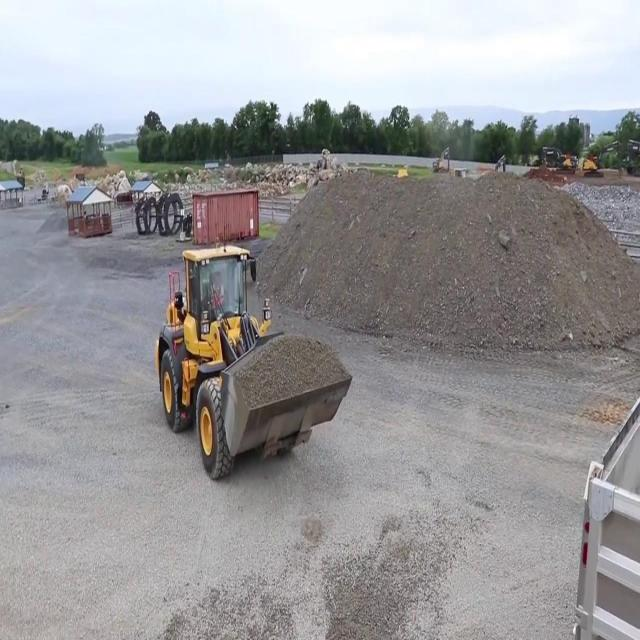Excavator: (582, 137, 640, 179), (542, 146, 578, 176), (433, 147, 449, 173)
Loader: (154, 236, 352, 480)
